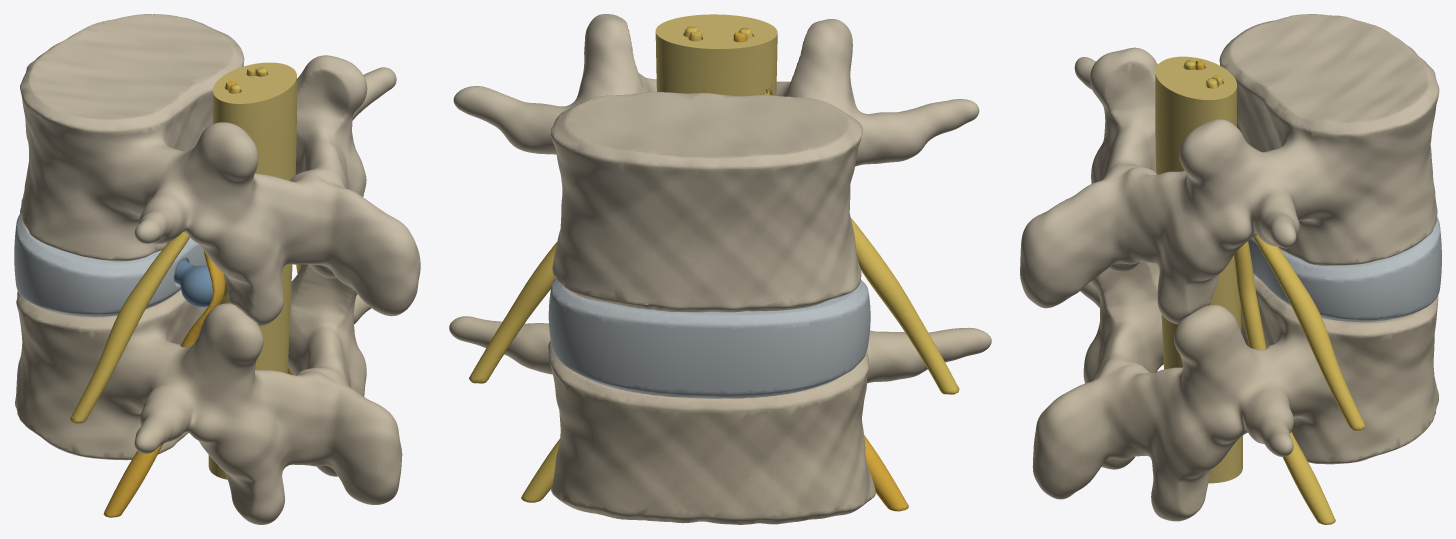
Rendered from spine_preop.glb.
3 views of the same model, side by side, from view 1: azimuth 30°, elevation 25°; view 2: azimuth 150°, elevation 25°; view 3: azimuth 270°, elevation 25° (orthographic). The views are drawn at different scales.
Visible parts, largest first — view 1: l4_vertebra, l5_vertebra, thecal_sac, annulus_fibrosus, nerve_roots, l5_nerve_root_left, disc_herniation; view 2: l4_vertebra, l5_vertebra, annulus_fibrosus, thecal_sac, nerve_roots, l5_nerve_root_left; view 3: l4_vertebra, l5_vertebra, annulus_fibrosus, thecal_sac, nerve_roots.
Boxes of the visible parts, x1,y1,x2,y2 form: l4_vertebra: (20, 14, 420, 326); l5_vertebra: (15, 264, 402, 524); thecal_sac: (208, 62, 296, 479); annulus_fibrosus: (14, 214, 206, 316); nerve_roots: (70, 67, 302, 423); l5_nerve_root_left: (103, 80, 236, 517); disc_herniation: (174, 259, 212, 306); l4_vertebra: (453, 14, 979, 312); l5_vertebra: (449, 316, 991, 524); annulus_fibrosus: (548, 278, 870, 398); thecal_sac: (655, 14, 777, 96); nerve_roots: (469, 26, 959, 502); l5_nerve_root_left: (733, 32, 908, 511); l4_vertebra: (1020, 14, 1439, 324); l5_vertebra: (1032, 262, 1438, 521); annulus_fibrosus: (1248, 216, 1441, 322); thecal_sac: (1155, 56, 1242, 483); nerve_roots: (1184, 60, 1365, 524).
Size of the model in its own units: 7.95 by 7.92 by 7.36.
